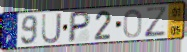2: (94, 9, 114, 42)
9: (20, 14, 39, 46)
O: (123, 8, 144, 39)
P: (67, 10, 93, 44)
U: (41, 12, 63, 45)
Z: (144, 6, 169, 39)
